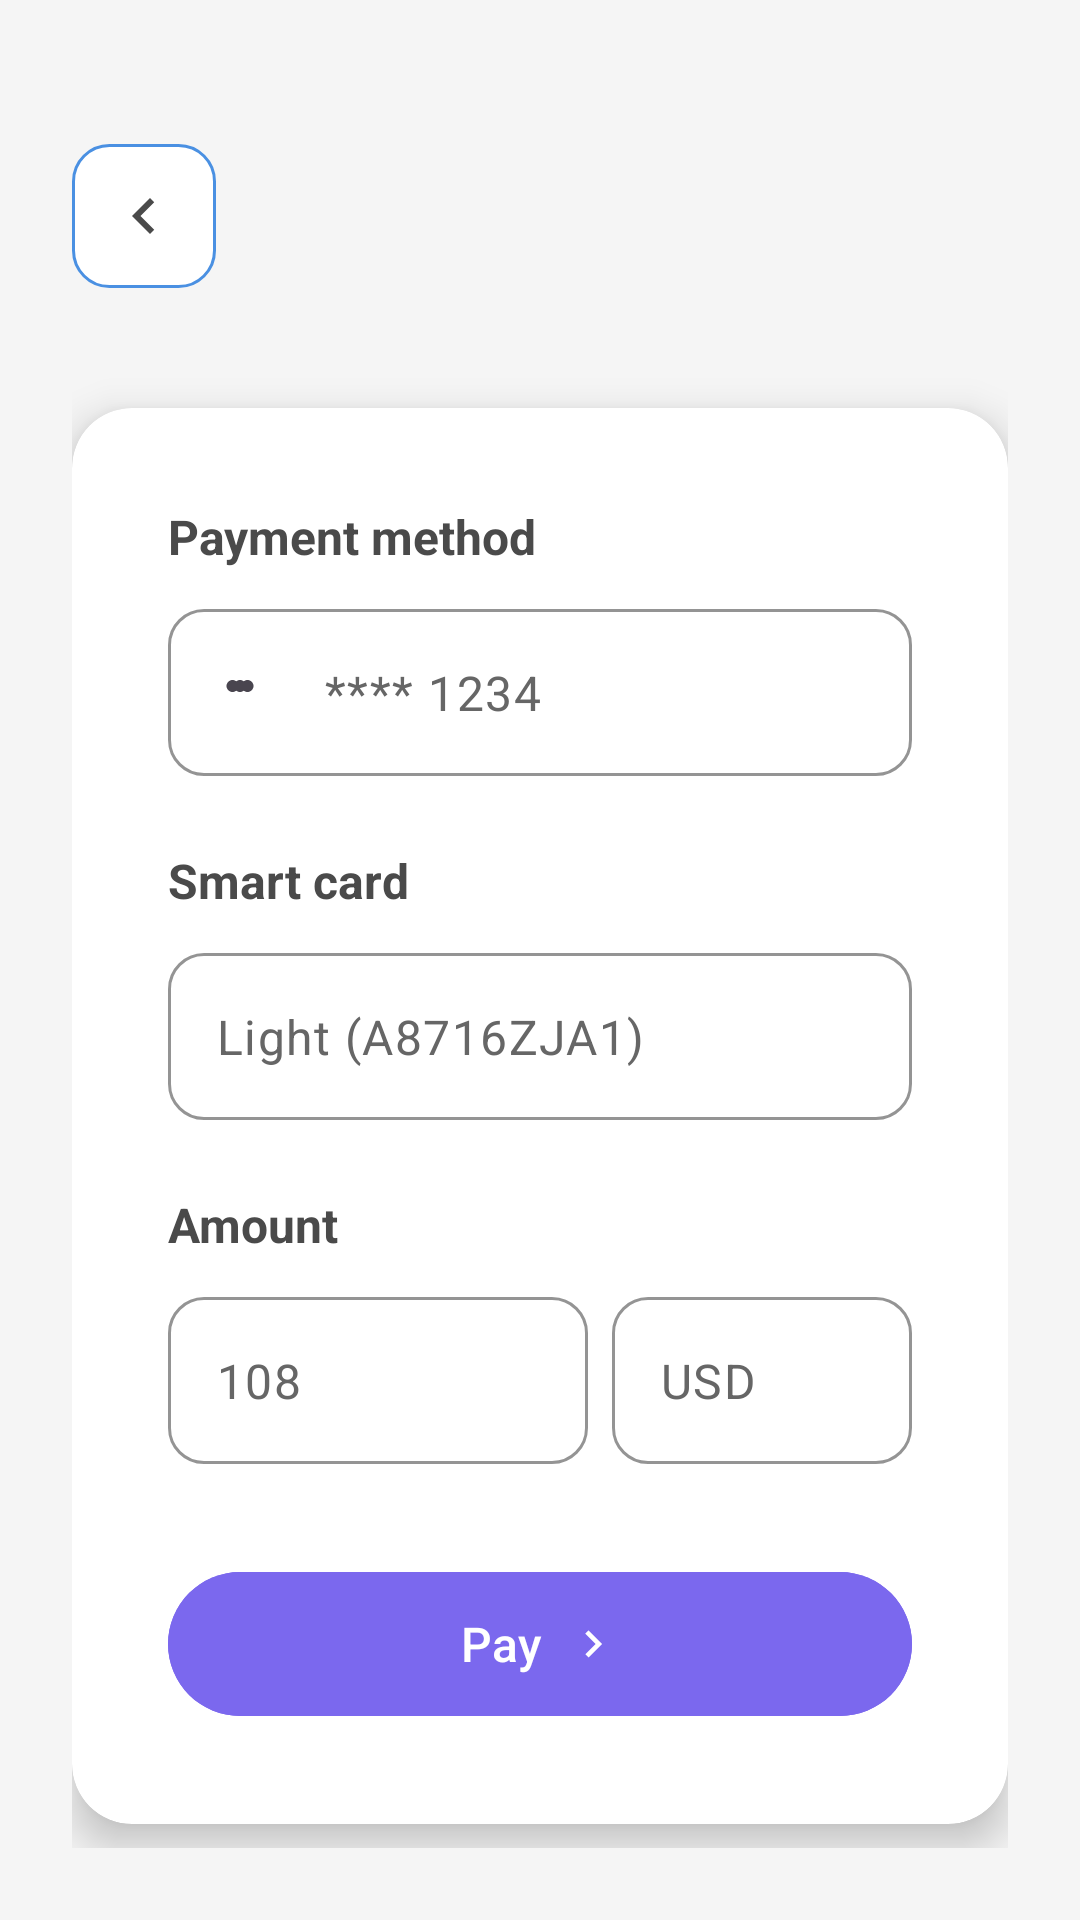

Screen size 1080 × 1920. Icon name, then its center in pixels as [x,y]:
Back: [144,216]
